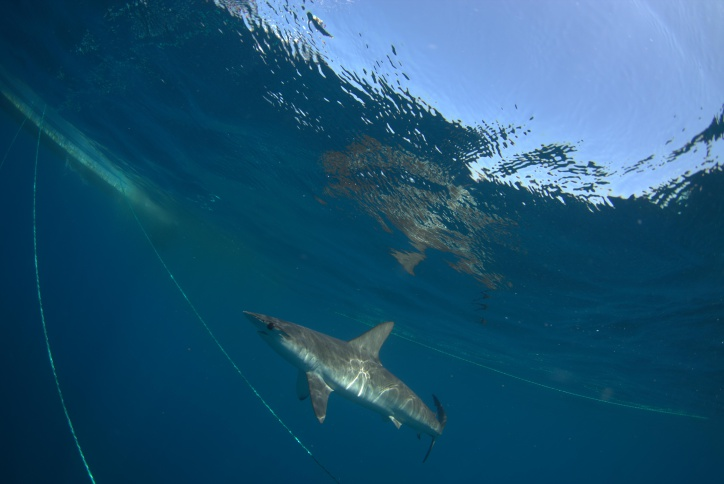Hammer: (238, 291, 460, 469)
